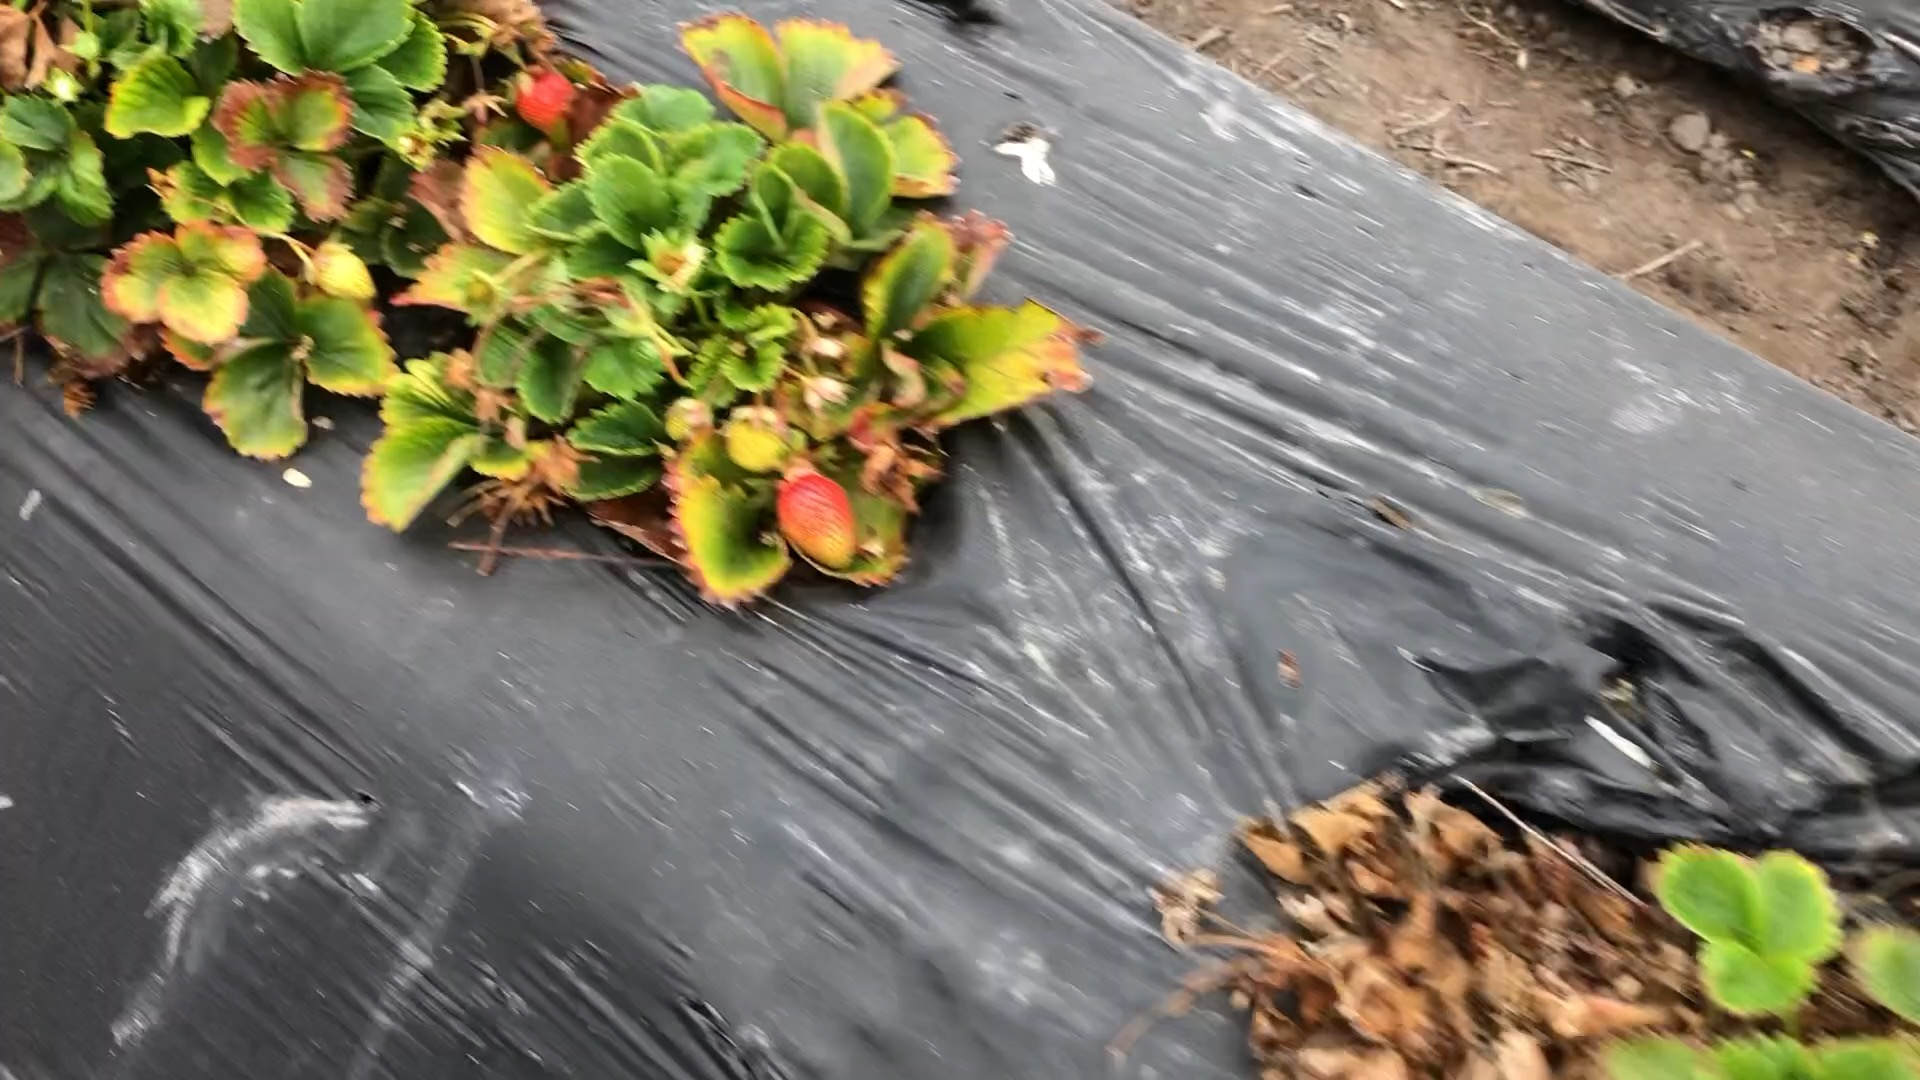ripe_strawberry: (508, 55, 576, 135)
unripe_strawberry: (771, 465, 860, 578), (310, 241, 378, 309)
